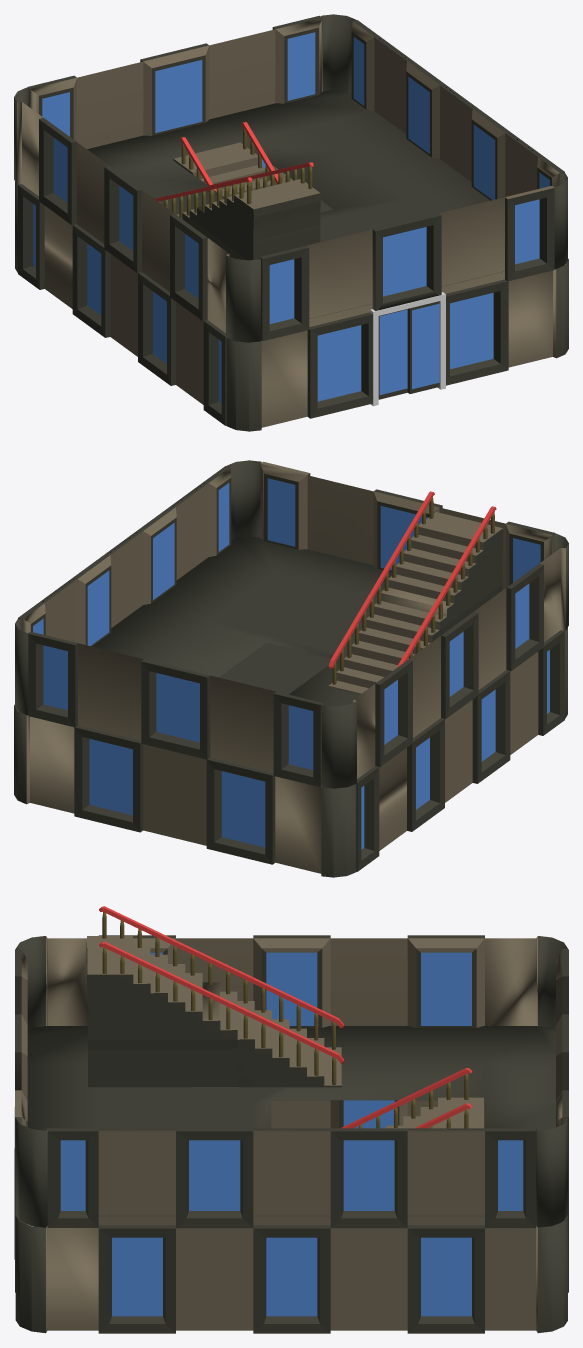
The model's file is Hotel Interior 2.fbx.
The picture shows the model from 3 angles, top to bottom: view 1: azimuth 30°, elevation 25°; view 2: azimuth 150°, elevation 25°; view 3: azimuth 270°, elevation 25°; orthographic projection. The views are drawn at different scales.
Parts seen in each view (by area): view 1: hotel basado.011; view 2: hotel basado.011; view 3: hotel basado.011.
Boxes of the visible parts, x1,y1,x2,y2 form: hotel basado.011: [14, 14, 568, 431]; hotel basado.011: [14, 460, 568, 877]; hotel basado.011: [14, 906, 568, 1333].
Bounding box in the file's own units: 1865 × 1157 × 2229.
